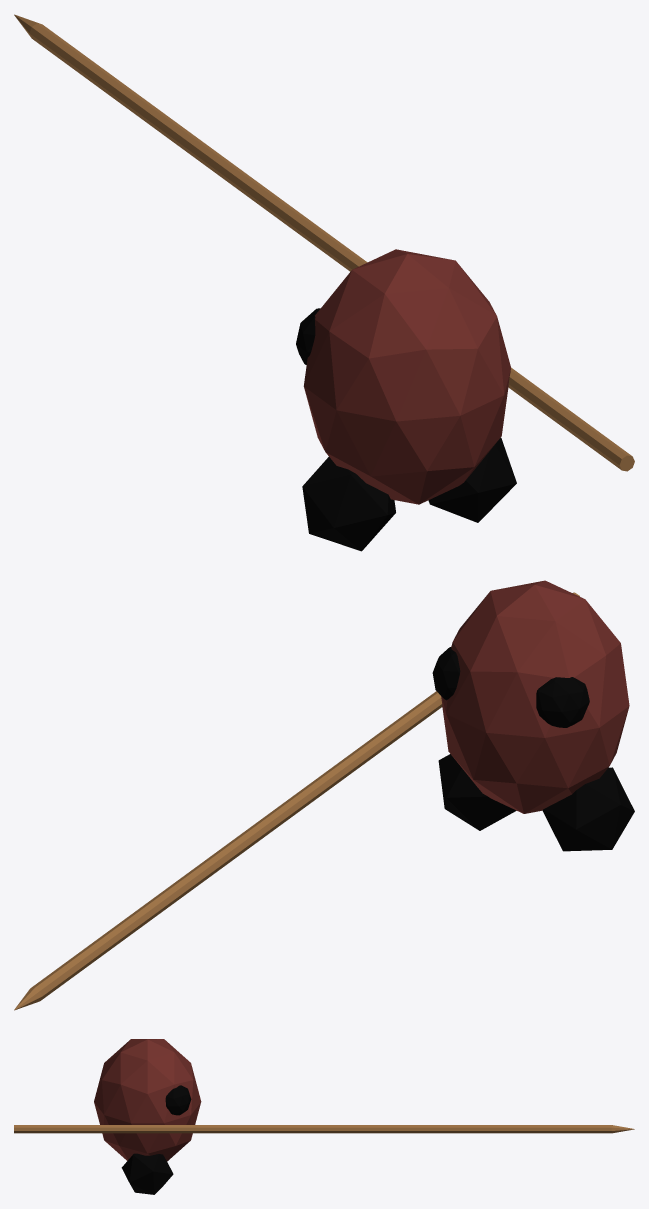
The model's file is stab.f0014.glb.
3 renders of one model, top to bottom at view 1: azimuth 30°, elevation 25°; view 2: azimuth 150°, elevation 25°; view 3: azimuth 270°, elevation 25°, orthographic. The views are drawn at different scales.
Parts seen in each view (by area): view 1: Body.001; view 2: Body.001; view 3: Body.001.
Boxes of the visible parts, <box> form: Body.001: <box>14,14,634,551</box>; Body.001: <box>14,580,634,1010</box>; Body.001: <box>14,1039,634,1194</box>.
Bounding box in the file's own units: 2.17 × 2.85 × 11.56.
1 material, 1 textured.
